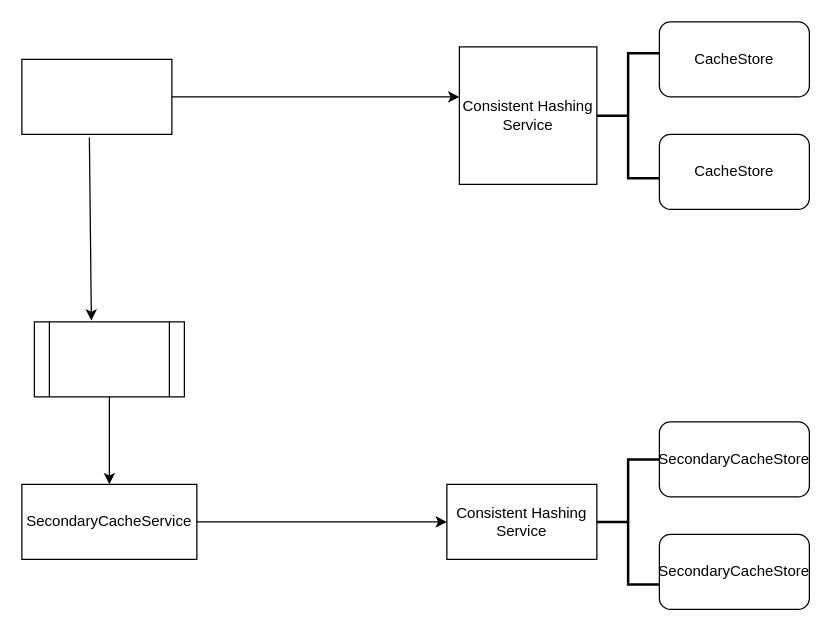
The diagram is 831 pixels wide and 631 high, and some of its shapes have lost their labels. Each missing label, with the centre of its shape:
"CacheService" belongs at point (96, 96).
"Secondary Index Queue" belongs at point (108, 359).
